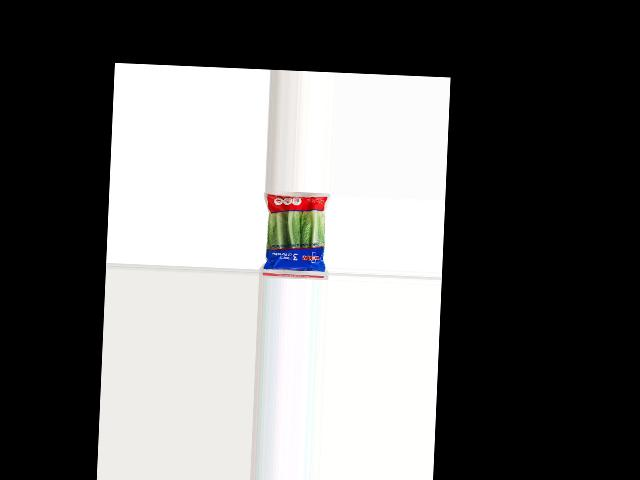lettuce: (262, 191, 331, 275)
